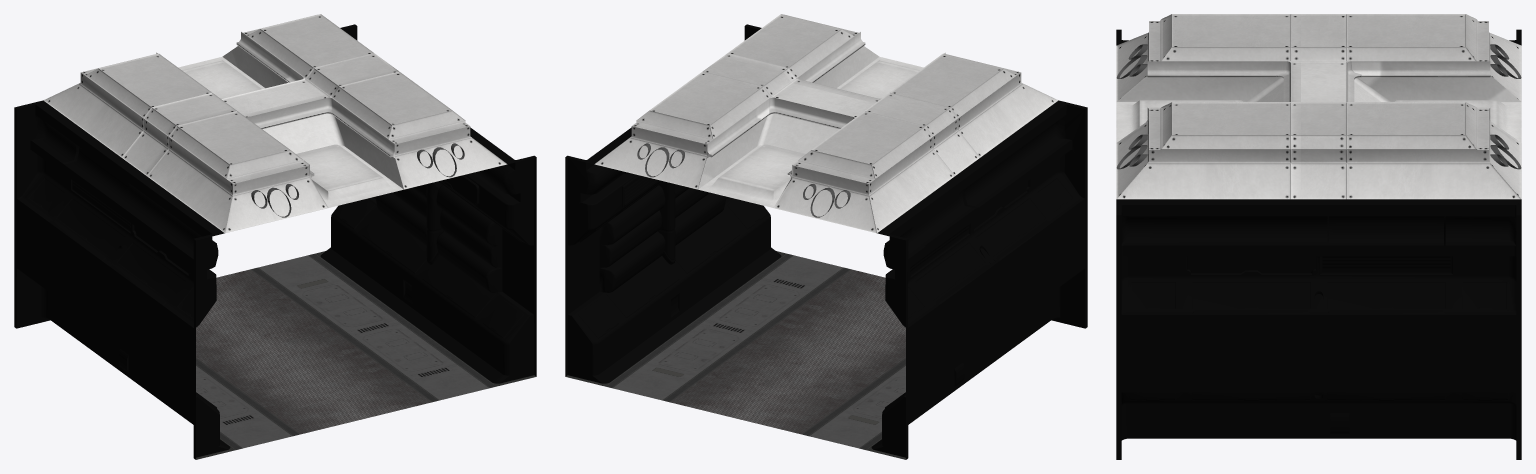
File: HallwayStraightShort.fbx
3 renders of one model, left to right at view 1: azimuth 30°, elevation 25°; view 2: azimuth 150°, elevation 25°; view 3: azimuth 270°, elevation 25°, orthographic. The views are drawn at different scales.
Visible parts, largest first — view 1: HallwayStraightShort001; view 2: HallwayStraightShort001; view 3: HallwayStraightShort001.
Boxes of the visible parts, x1,y1,x2,y2 form: HallwayStraightShort001: [14, 14, 536, 459]; HallwayStraightShort001: [565, 14, 1087, 459]; HallwayStraightShort001: [1116, 14, 1521, 459].
Bounding box in the file's own units: 650 × 478 × 600.
